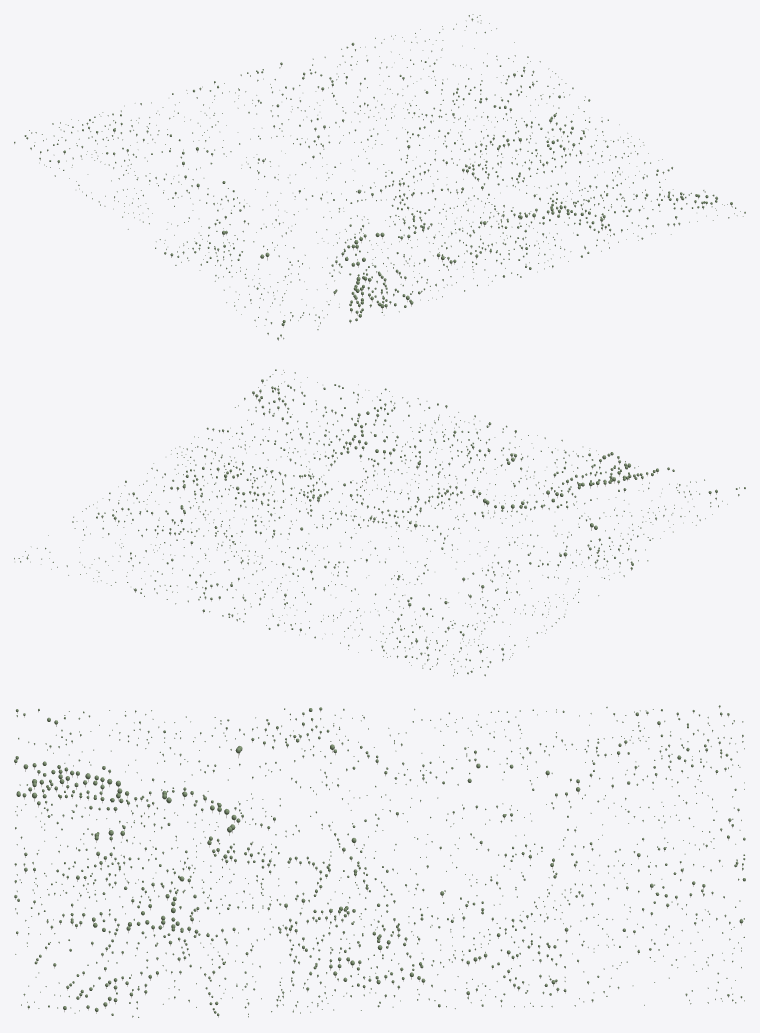
File: trees.glb
3 renders of one model, top to bottom at view 1: azimuth 30°, elevation 25°; view 2: azimuth 150°, elevation 25°; view 3: azimuth 270°, elevation 25°, orthographic. The views are drawn at different scales.
Visible parts, largest first — view 1: trees_0, trees_1; view 2: trees_0, trees_1; view 3: trees_0, trees_1.
Part boxes in pixels (bbox=[...]): trees_0: bbox=[14, 14, 745, 339]; trees_1: bbox=[14, 20, 731, 340]; trees_0: bbox=[14, 369, 745, 675]; trees_1: bbox=[14, 373, 738, 676]; trees_0: bbox=[14, 705, 745, 1017]; trees_1: bbox=[15, 707, 742, 1017].
Bounding box in the file's own units: 2024 × 73.08 × 2026.
